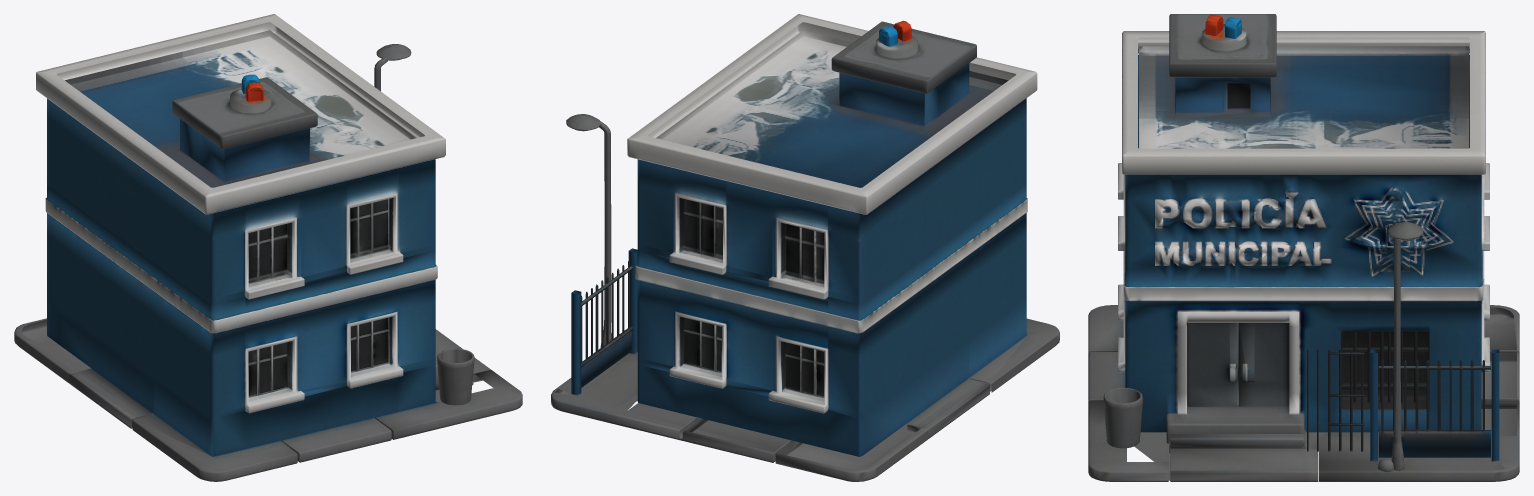
Rendered from tripo_convert_4bc9b179-fee5-40a7-889a-6f131e7c68e2.fbx.
The picture shows the model from 3 angles, left to right: view 1: azimuth 30°, elevation 25°; view 2: azimuth 150°, elevation 25°; view 3: azimuth 270°, elevation 25°; orthographic projection. The views are drawn at different scales.
Parts seen in each view (by area): view 1: tripo_node_4bc9b179; view 2: tripo_node_4bc9b179; view 3: tripo_node_4bc9b179.
Boxes of the visible parts, <box> form: tripo_node_4bc9b179: <box>14,14,522,481</box>; tripo_node_4bc9b179: <box>551,14,1059,481</box>; tripo_node_4bc9b179: <box>1088,14,1519,481</box>.
Size of the model in its own units: 0.9983 by 0.9043 by 1.
